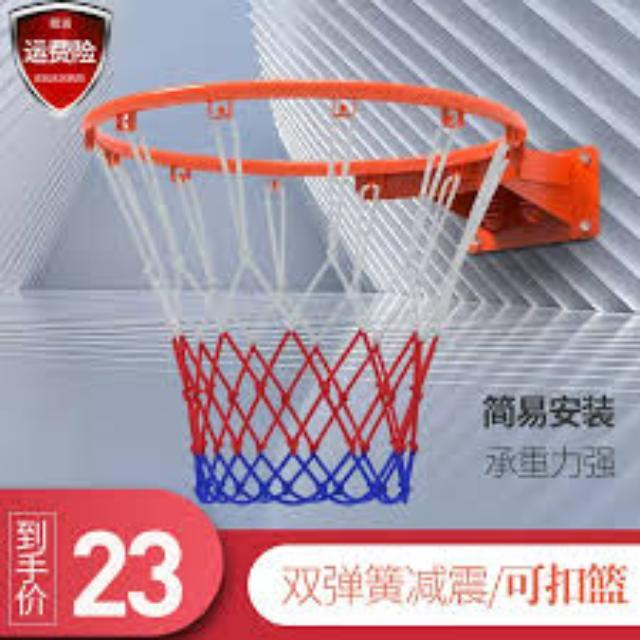rim: (86, 80, 528, 503)
